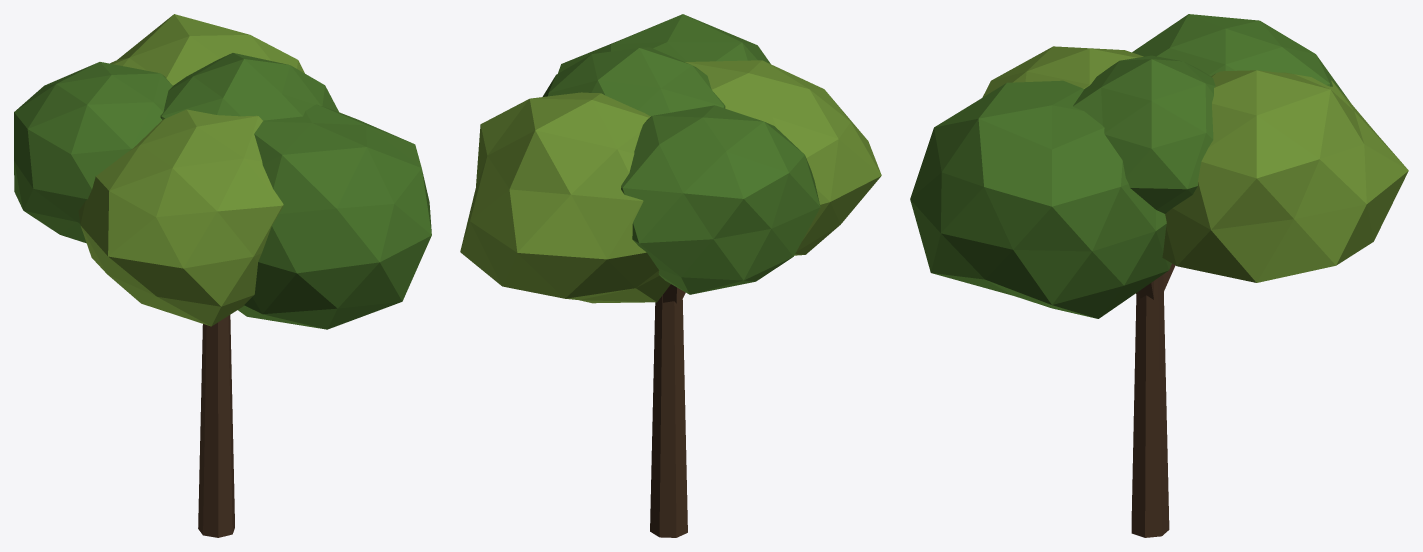
Rendered from oak.glb.
3 views of the same model, side by side, from view 1: azimuth 30°, elevation 25°; view 2: azimuth 150°, elevation 25°; view 3: azimuth 270°, elevation 25° (orthographic). The views are drawn at different scales.
Visible parts, largest first — view 1: oak; view 2: oak; view 3: oak.
Boxes of the visible parts, bbox=[...] form: oak: bbox=[14, 14, 431, 537]; oak: bbox=[460, 14, 881, 537]; oak: bbox=[910, 14, 1408, 537].
Size of the model in its own units: 6.74 by 9.4 by 8.76.
